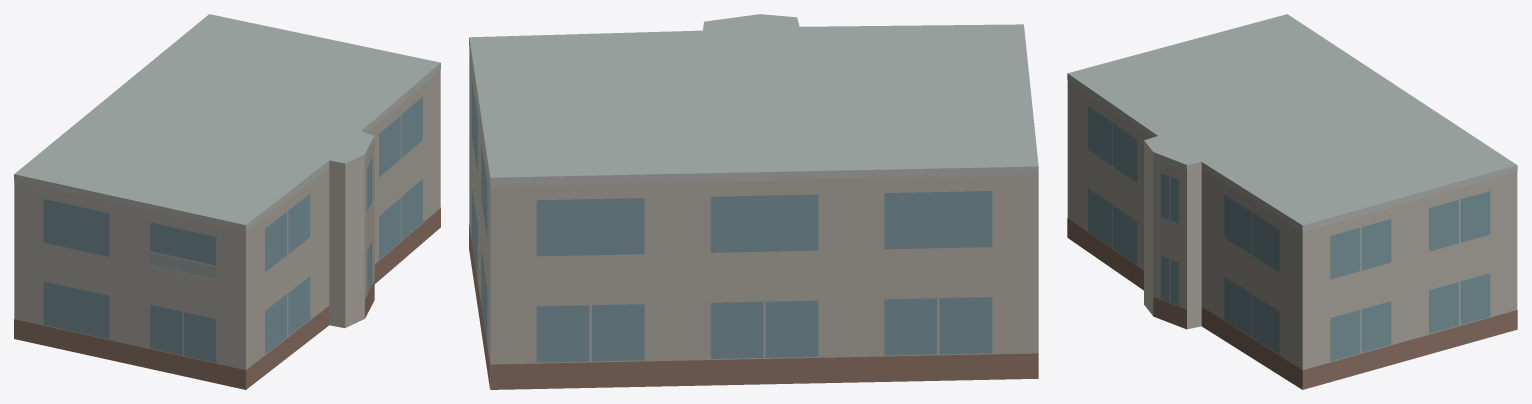
Rendered from survey-upis-32621839.glb.
3 renders of one model, left to right at view 1: azimuth 30°, elevation 25°; view 2: azimuth 150°, elevation 25°; view 3: azimuth 270°, elevation 25°, orthographic. The views are drawn at different scales.
Parts seen in each view (by area): view 1: survey-upis-32621839.tmp; view 2: survey-upis-32621839.tmp; view 3: survey-upis-32621839.tmp.
Boxes of the visible parts, <box> form: survey-upis-32621839.tmp: <box>14,14,440,389</box>; survey-upis-32621839.tmp: <box>469,14,1038,389</box>; survey-upis-32621839.tmp: <box>1067,14,1517,389</box>.
Bounding box in the file's own units: 16.84 × 6.1 × 15.14.
